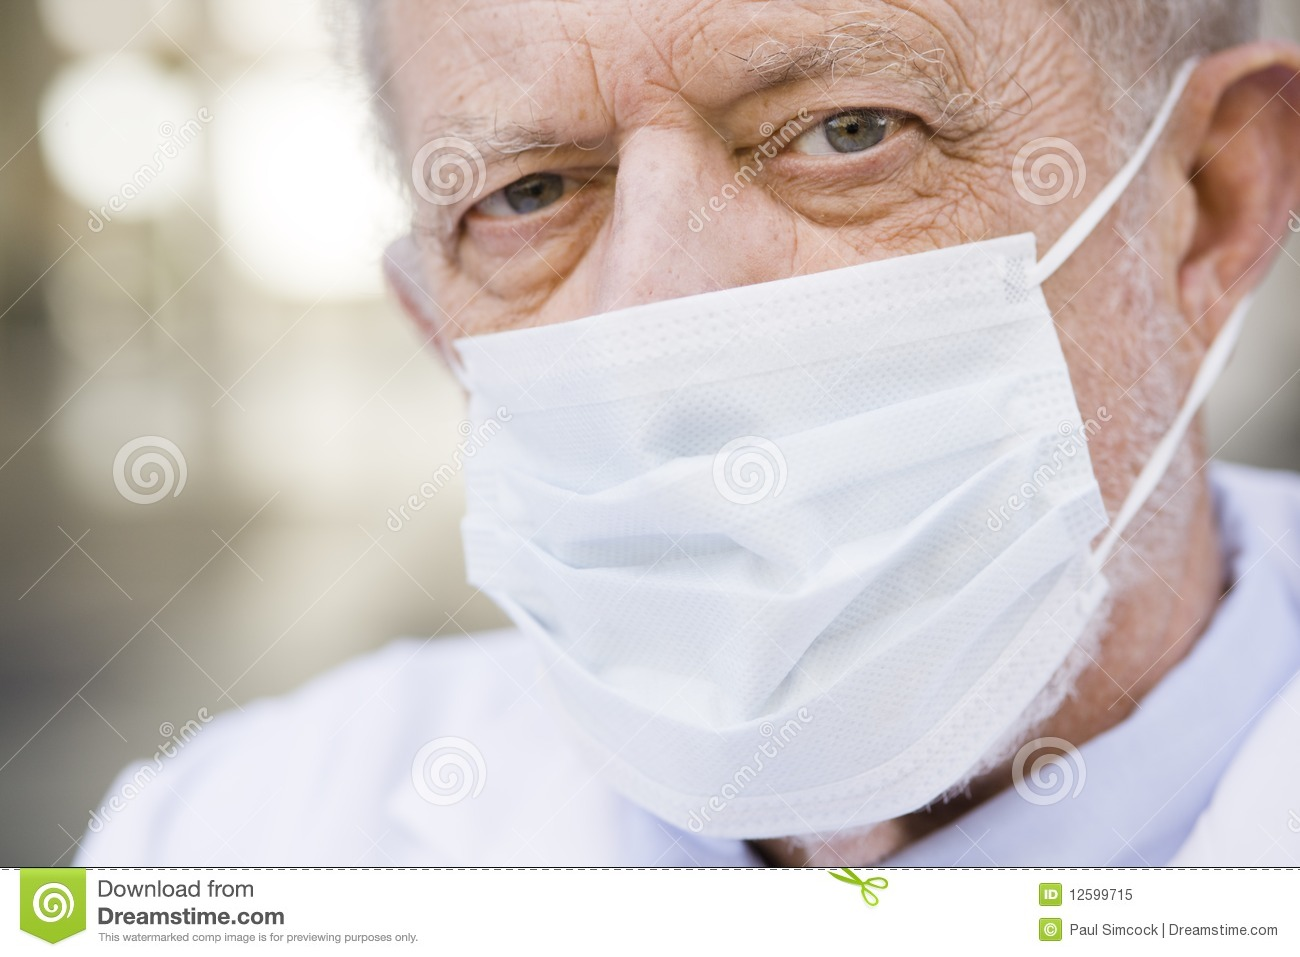mask: (472, 279, 1119, 816)
